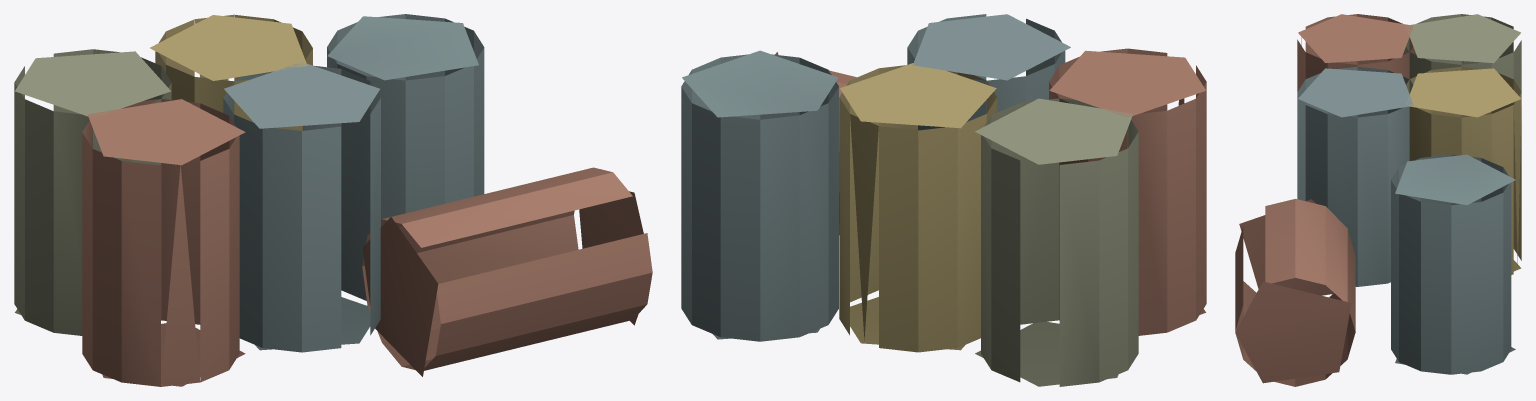
Rendered from mil_drums.lod.glb.
3 renders of one model, left to right at view 1: azimuth 30°, elevation 25°; view 2: azimuth 150°, elevation 25°; view 3: azimuth 270°, elevation 25°, orthographic. The views are drawn at different scales.
Visible parts, largest first — view 1: mil_drums; view 2: mil_drums; view 3: mil_drums.
Part boxes in pixels (x1,y1,x2,y2): mil_drums: [14, 14, 652, 386]; mil_drums: [681, 14, 1206, 386]; mil_drums: [1235, 14, 1521, 386].
Size of the model in its own units: 2.04 by 1.04 by 1.38.
